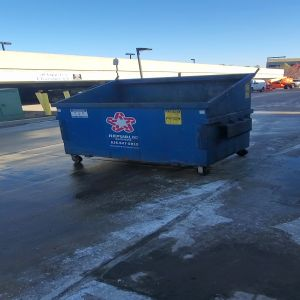Dumpster: (54, 72, 259, 177)
